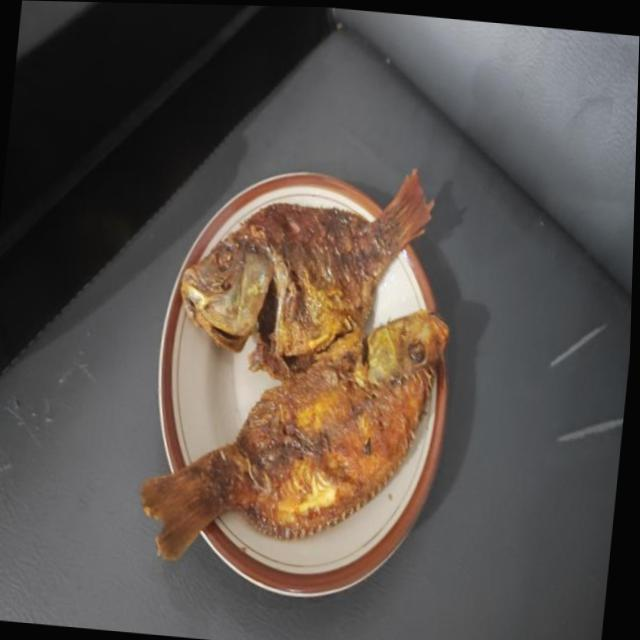ikan_mujair: (140, 310, 448, 559), (181, 169, 433, 374)
